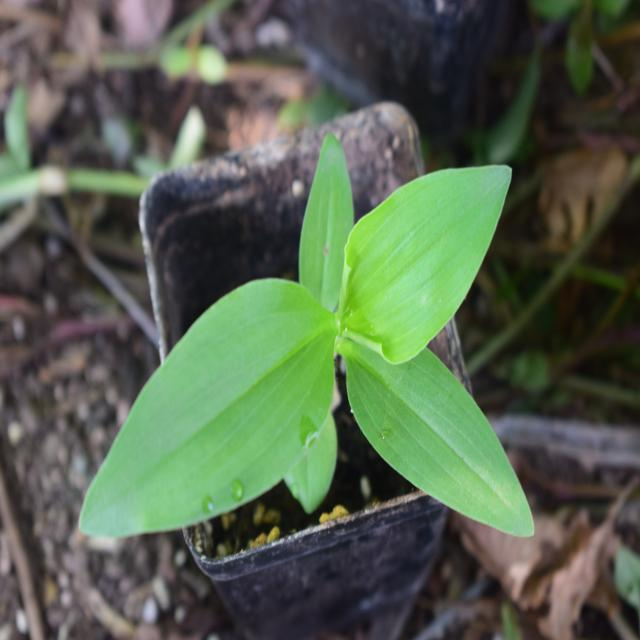Common Dayflower: (71, 153, 556, 554)
